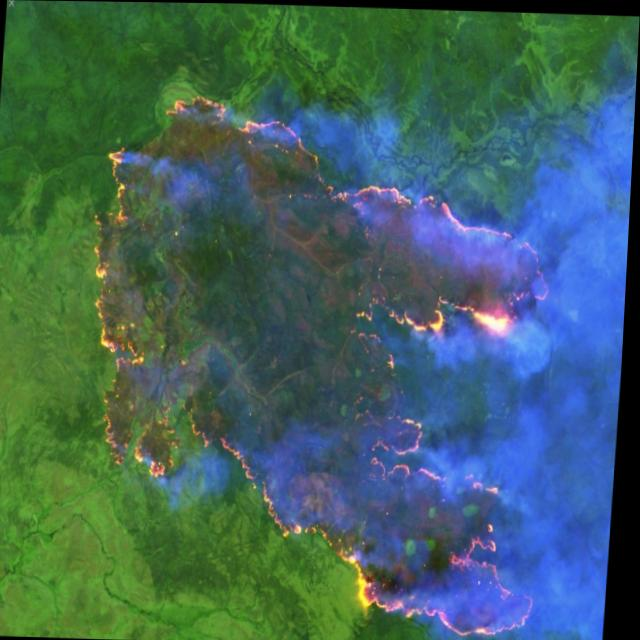fire: (65, 75, 572, 640)
